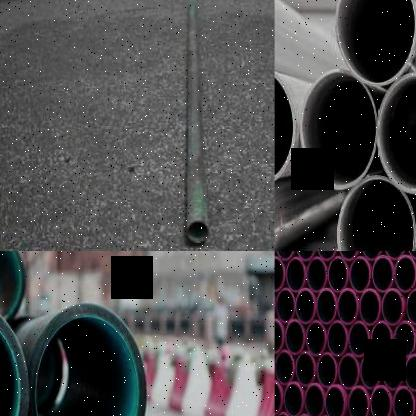pipe: (28, 302, 146, 416), (300, 69, 376, 189), (335, 0, 415, 85), (336, 176, 414, 251), (375, 71, 416, 192), (275, 72, 297, 180), (0, 251, 23, 314), (372, 256, 393, 292), (394, 322, 415, 357), (395, 256, 415, 292), (327, 320, 347, 356), (339, 354, 359, 390), (383, 354, 403, 390), (382, 290, 403, 324), (360, 290, 380, 324), (317, 354, 337, 388), (361, 354, 381, 388), (371, 323, 391, 356), (350, 258, 369, 292), (338, 290, 357, 324), (317, 290, 336, 324), (285, 320, 304, 354), (349, 322, 368, 356), (296, 352, 315, 386), (347, 386, 368, 416), (393, 386, 414, 416), (307, 258, 326, 291), (296, 290, 315, 323), (329, 258, 347, 292), (307, 321, 325, 355), (284, 382, 302, 416), (286, 258, 305, 290), (275, 352, 294, 384), (305, 384, 324, 416), (370, 386, 390, 416), (277, 289, 295, 322), (325, 386, 344, 416), (187, 221, 209, 244), (404, 355, 416, 389), (274, 258, 284, 290), (407, 289, 416, 324), (274, 381, 282, 415), (274, 320, 282, 353), (384, 251, 405, 259), (362, 251, 381, 259), (339, 251, 358, 259), (296, 251, 315, 259), (318, 251, 336, 258), (277, 251, 294, 258)
